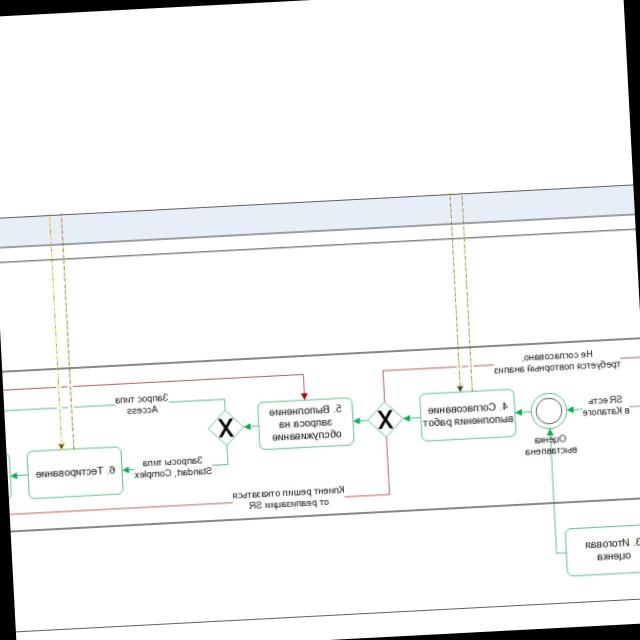arrow: (121, 446, 231, 474), (547, 429, 566, 555), (404, 413, 422, 424), (353, 415, 369, 426), (243, 422, 259, 433), (515, 408, 531, 418)
circle: (530, 392, 569, 429)
diamond: (206, 410, 243, 447), (366, 401, 403, 438)
rectangle: (256, 397, 354, 450), (26, 446, 123, 499), (419, 388, 516, 441)
text_region: (493, 347, 621, 375), (233, 485, 346, 512), (134, 455, 212, 481), (115, 392, 170, 416), (524, 434, 579, 457), (581, 394, 630, 418)
